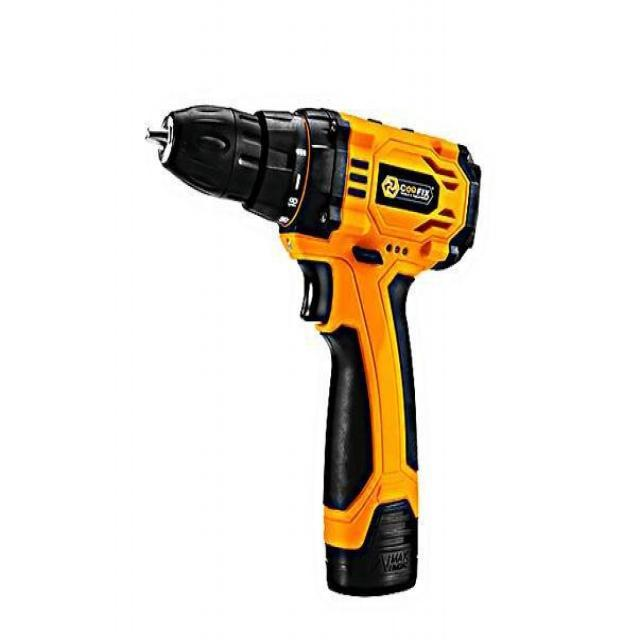drill: (144, 105, 483, 600)
